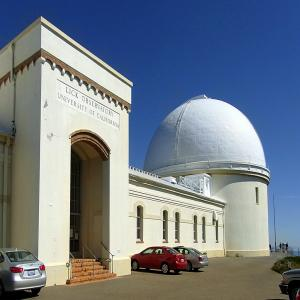Vehicle-registration-plate: (28, 270, 36, 278), (203, 258, 208, 264), (182, 258, 186, 263)
